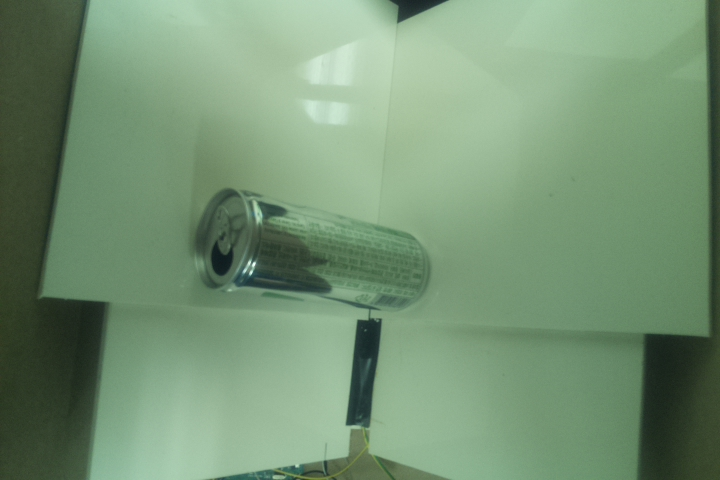can: (191, 186, 434, 315)
